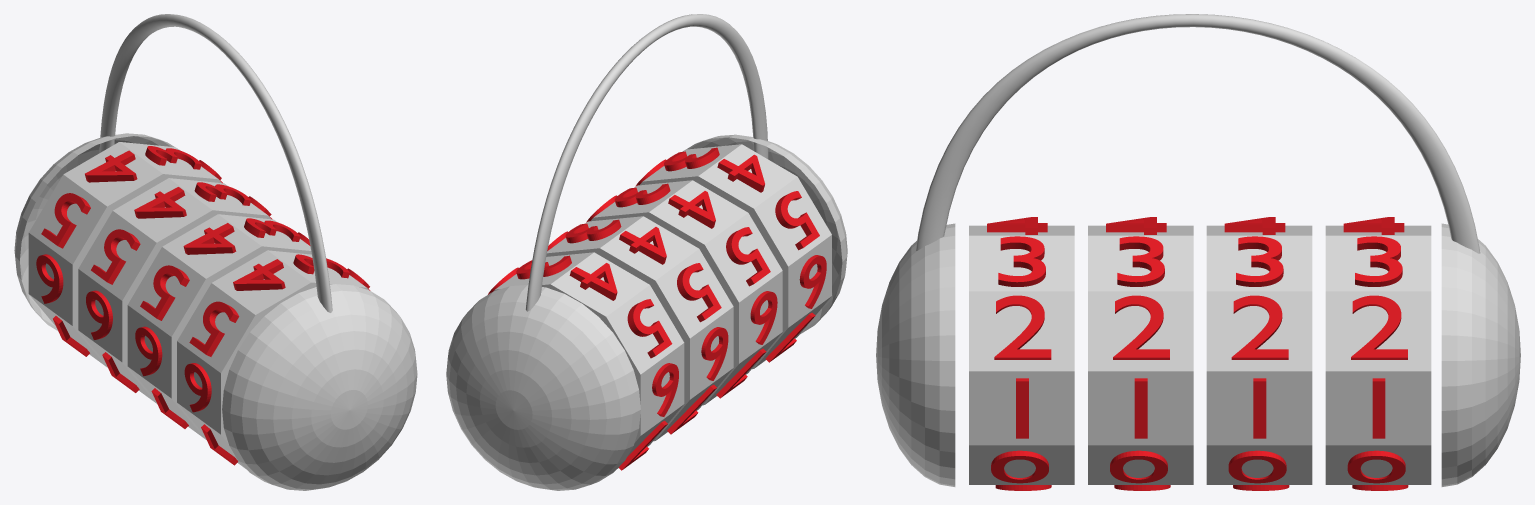
The model's file is lock.fbx.
3 renders of one model, left to right at view 1: azimuth 30°, elevation 25°; view 2: azimuth 150°, elevation 25°; view 3: azimuth 270°, elevation 25°, orthographic. The views are drawn at different scales.
Parts seen in each view (by area): view 1: Sphere, Cylinder.004, Cylinder.003, Cylinder.002, Cylinder.001, NurbsPath, Sphere.001, Text.015, Text.016, Text.026, Text.036, Text.003 (+11 smaller); view 2: Sphere.001, Cylinder.003, Cylinder.001, Cylinder.002, Cylinder.004, NurbsPath, Sphere, Text.025, Text.015, Text.004, Text.035, Text.026 (+15 smaller); view 3: Cylinder.003, Cylinder.004, Cylinder.002, Cylinder.001, Sphere, Sphere.001, NurbsPath, Text.028, Text.038, Text.001, Text.018, Text.002 (+15 smaller).
Part boxes in pixels (x1,y1,x2,y2): Sphere: [222, 284, 417, 490]; Cylinder.004: [28, 142, 221, 367]; Cylinder.003: [78, 178, 270, 403]; Cylinder.002: [127, 214, 311, 439]; Cylinder.001: [177, 250, 368, 468]; NurbsPath: [99, 14, 332, 312]; Sphere.001: [14, 133, 180, 330]; Text.015: [140, 265, 189, 320]; Text.016: [183, 223, 236, 254]; Text.026: [134, 187, 186, 218]; Text.036: [85, 150, 137, 182]; Text.003: [233, 259, 285, 290]; Sphere.001: [446, 285, 640, 490]; Cylinder.003: [546, 216, 733, 441]; Cylinder.001: [640, 144, 831, 369]; Cylinder.002: [590, 180, 782, 405]; Cylinder.004: [494, 252, 684, 468]; NurbsPath: [525, 14, 768, 311]; Sphere: [682, 134, 847, 334]; Text.025: [677, 263, 721, 322]; Text.015: [726, 227, 770, 286]; Text.004: [775, 191, 819, 250]; Text.035: [627, 299, 672, 358]; Text.026: [619, 227, 666, 264]; Cylinder.003: [1206, 225, 1312, 484]; Cylinder.004: [1325, 225, 1431, 484]; Cylinder.002: [1088, 225, 1193, 484]; Cylinder.001: [969, 225, 1074, 484]; Sphere: [876, 223, 955, 486]; Sphere.001: [1441, 223, 1520, 486]; NurbsPath: [916, 14, 1480, 253]; Text.028: [1231, 295, 1288, 359]; Text.038: [1351, 295, 1407, 359]; Text.001: [994, 295, 1051, 359]; Text.018: [1113, 295, 1169, 359]; Text.002: [998, 236, 1045, 286].
Size of the model in its own units: 201 by 386 by 489.
